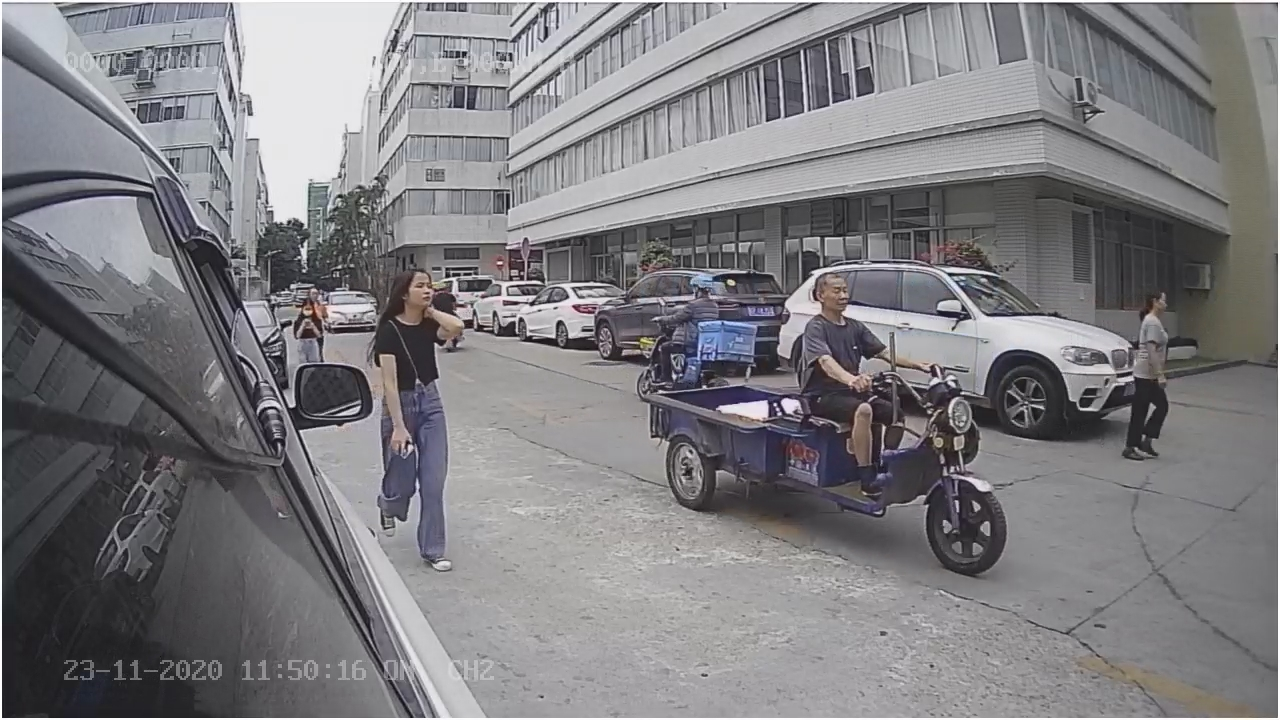person: (793, 270, 908, 388), (367, 260, 482, 370), (1118, 282, 1176, 469)
